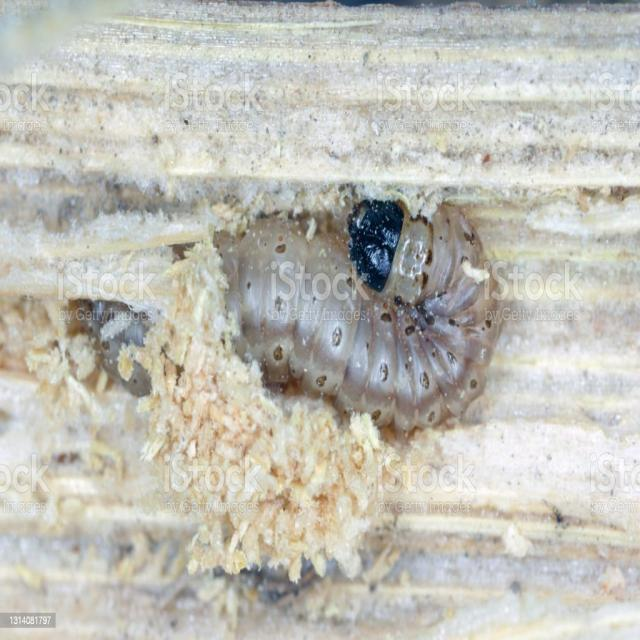cornborer-Larva-: (74, 176, 503, 448)
